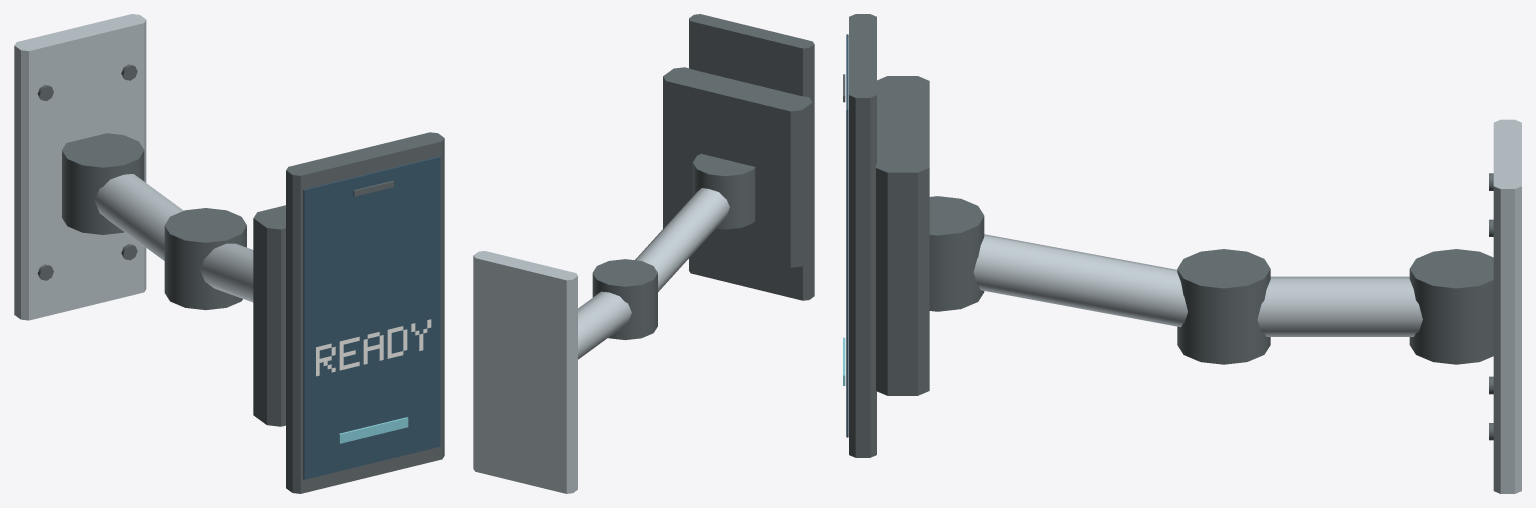
Rendered from phoneArm.glb.
3 views of the same model, side by side, from view 1: azimuth 30°, elevation 25°; view 2: azimuth 150°, elevation 25°; view 3: azimuth 270°, elevation 25° (orthographic). The views are drawn at different scales.
Parts seen in each view (by area): view 1: Mobiltelefon på väggarm; view 2: Mobiltelefon på väggarm; view 3: Mobiltelefon på väggarm.
Boxes of the visible parts, x1,y1,x2,y2 form: Mobiltelefon på väggarm: (14,14,444,493); Mobiltelefon på väggarm: (473,14,814,493); Mobiltelefon på väggarm: (843,14,1521,493).
Bounding box in the file's own units: 0.098 × 0.1905 × 0.2905.
